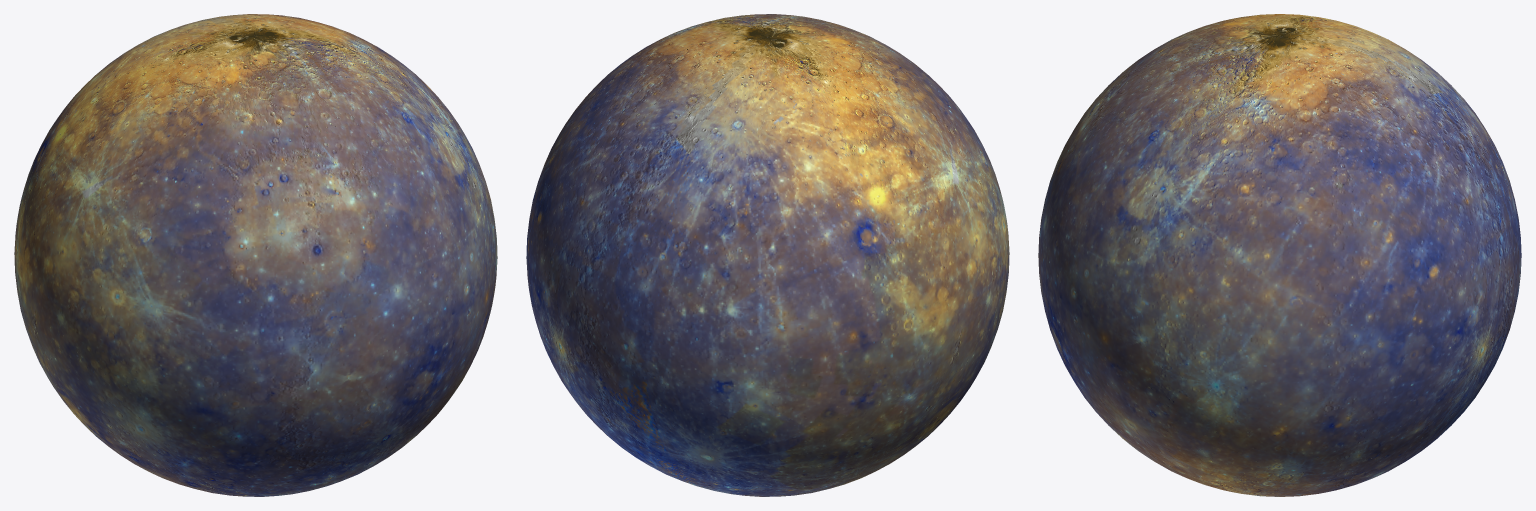
Rendered from Mercury.fbx.
The picture shows the model from 3 angles, left to right: view 1: azimuth 30°, elevation 25°; view 2: azimuth 150°, elevation 25°; view 3: azimuth 270°, elevation 25°; orthographic projection.
Visible parts, largest first — view 1: 5; view 2: 5; view 3: 5.
Boxes of the visible parts, bbox=[...] form: 5: bbox=[14, 14, 497, 496]; 5: bbox=[526, 14, 1009, 496]; 5: bbox=[1038, 14, 1521, 496].
Bounding box in the file's own units: 4.88 × 4.88 × 4.88.
